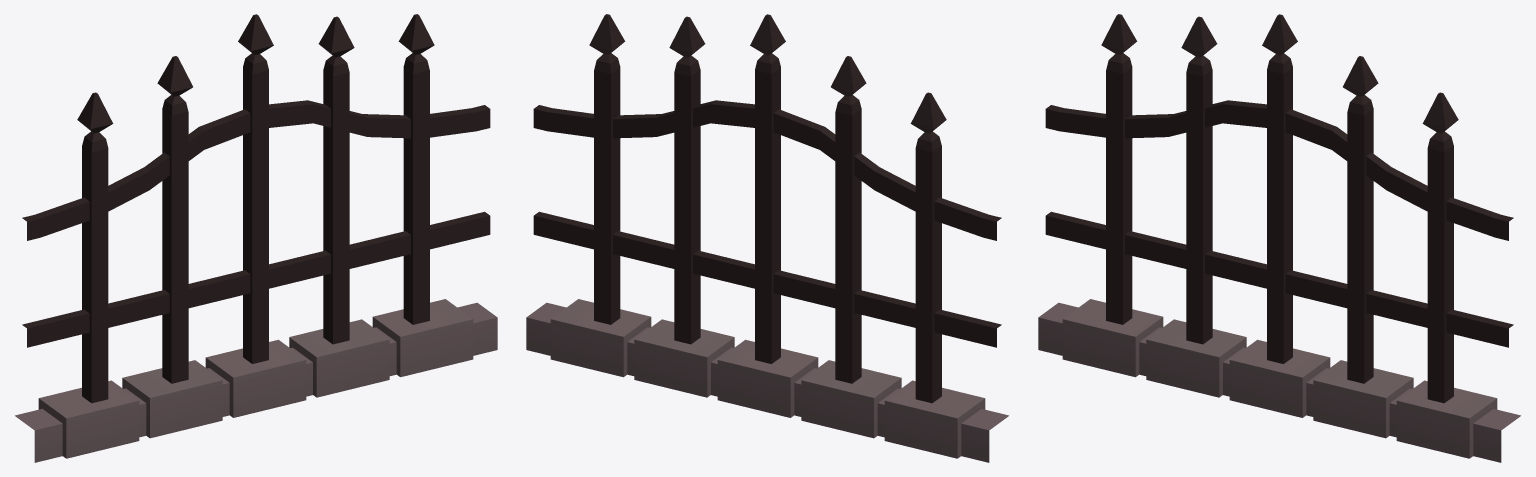
Rendered from fence-2.glb.
3 views of the same model, side by side, from view 1: azimuth 30°, elevation 25°; view 2: azimuth 150°, elevation 25°; view 3: azimuth 330°, elevation 25° (orthographic).
Parts seen in each view (by area): view 1: fenceASection1; view 2: fenceASection1; view 3: fenceASection1.
Part boxes in pixels (bbox=[...]): fenceASection1: bbox=[15, 14, 497, 462]; fenceASection1: bbox=[526, 14, 1008, 462]; fenceASection1: bbox=[1038, 14, 1520, 462].
Size of the model in its own units: 2.71 by 2.15 by 0.2802.
1 material, 1 textured.
